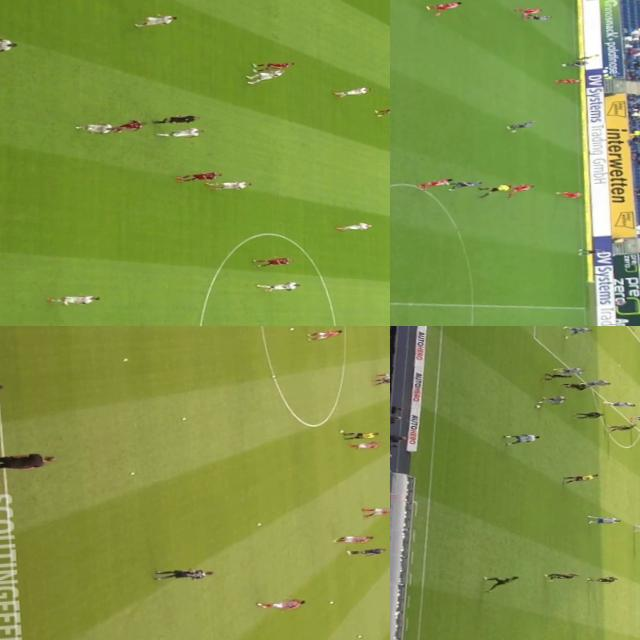ball: (532, 403, 542, 410), (254, 522, 263, 526), (120, 358, 128, 362), (355, 634, 363, 638), (287, 326, 293, 331), (180, 417, 186, 421), (130, 472, 136, 476), (337, 430, 343, 433), (328, 601, 333, 604), (268, 376, 274, 378), (387, 412, 390, 415)
player: (152, 566, 212, 584), (100, 118, 148, 138), (151, 125, 204, 142), (44, 292, 100, 308), (198, 178, 254, 194), (130, 11, 178, 29), (240, 68, 288, 85), (252, 597, 307, 611), (496, 432, 546, 446), (476, 573, 521, 588), (253, 280, 300, 294), (422, 0, 463, 16), (497, 182, 536, 198), (70, 122, 113, 136), (172, 170, 222, 182), (412, 178, 453, 192), (250, 255, 293, 268), (535, 370, 578, 383), (534, 392, 571, 407), (602, 420, 639, 434), (331, 85, 370, 98), (305, 329, 344, 342), (248, 60, 294, 71), (344, 546, 384, 558), (584, 514, 624, 526), (501, 119, 535, 133), (334, 533, 372, 545), (334, 220, 371, 232), (570, 410, 604, 421), (576, 245, 604, 258), (551, 189, 584, 200), (604, 399, 634, 411), (448, 178, 483, 188), (546, 572, 580, 582), (348, 440, 381, 450), (586, 575, 622, 584), (559, 58, 591, 68), (550, 76, 582, 86), (361, 506, 390, 517), (562, 326, 593, 336), (514, 6, 544, 16), (0, 37, 16, 55), (584, 380, 610, 391), (522, 12, 550, 22), (554, 366, 588, 374), (369, 106, 390, 118), (371, 377, 390, 385), (629, 411, 640, 423), (629, 523, 640, 535), (379, 370, 390, 379)
